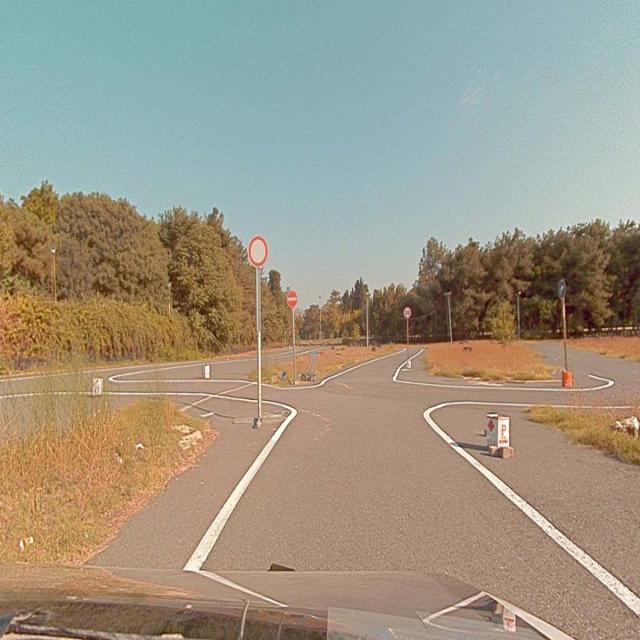girisyok: (287, 290, 298, 307)
